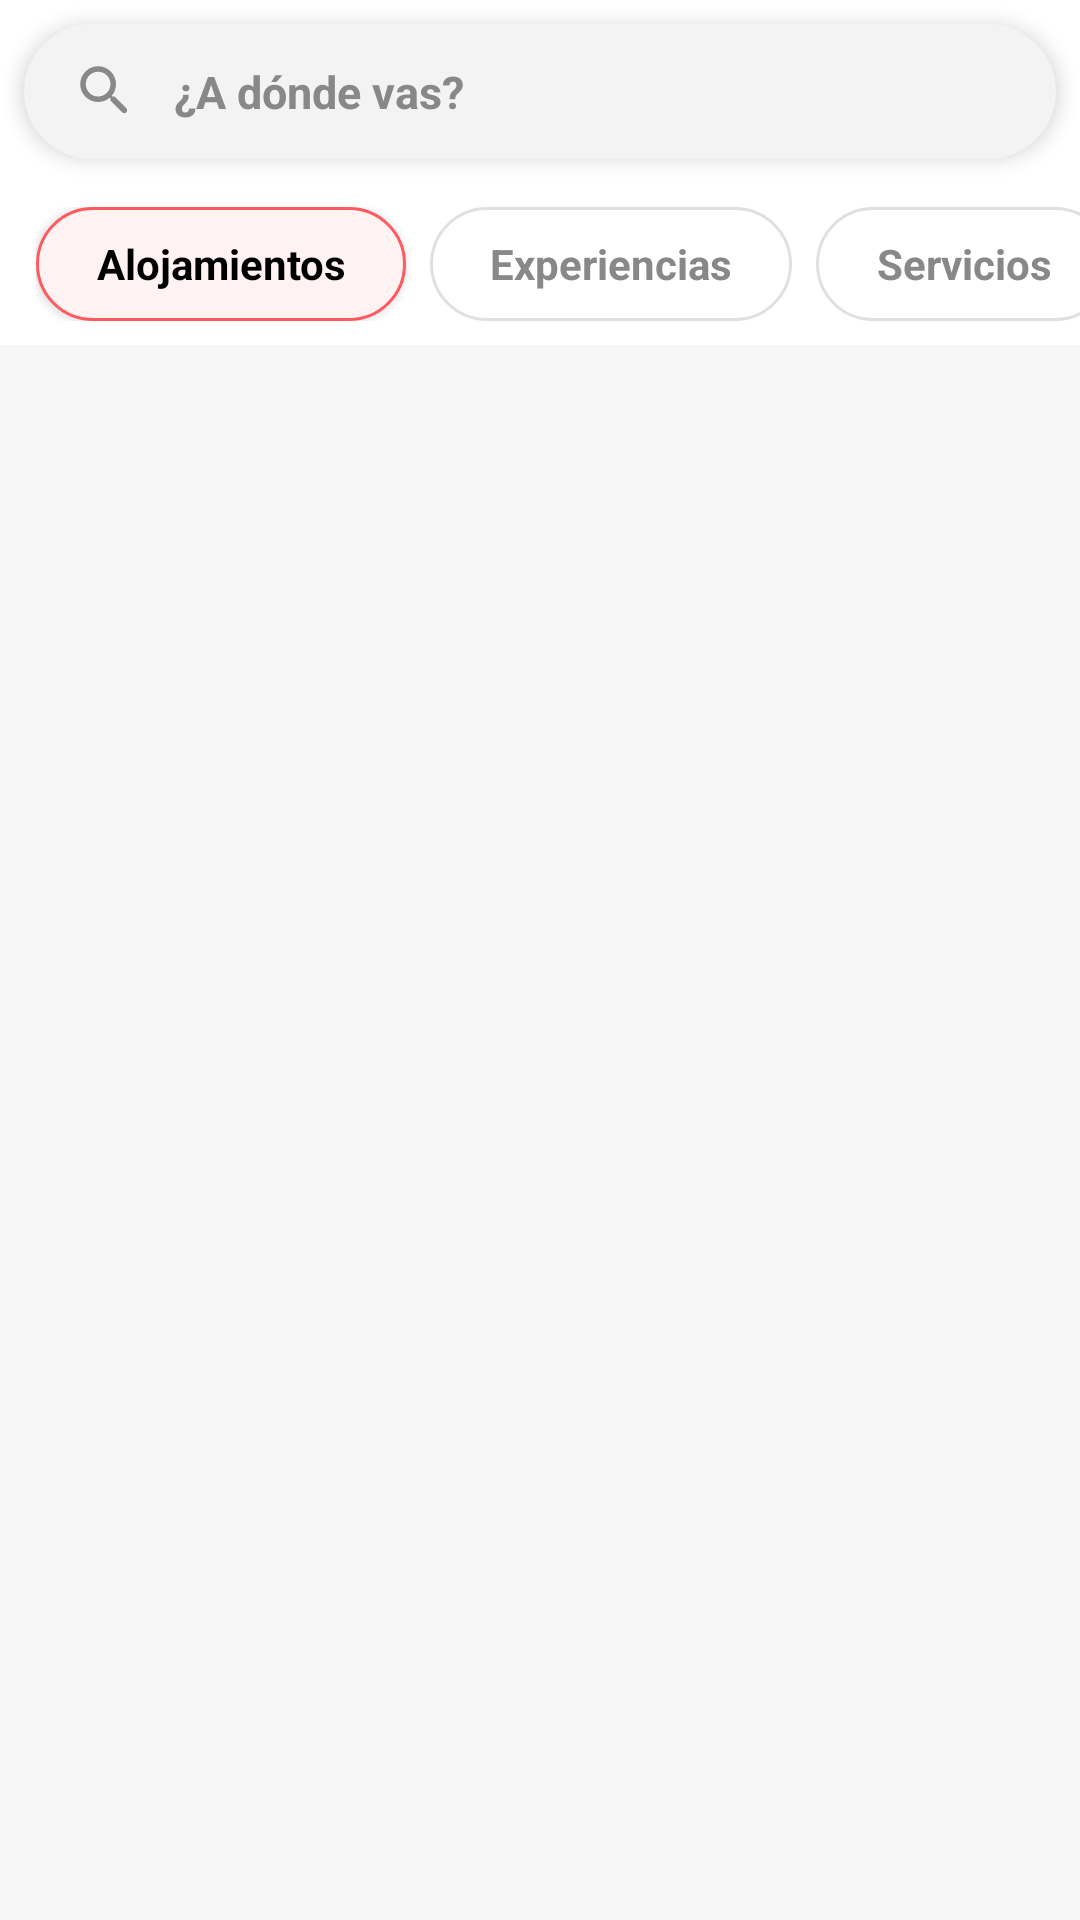

Point at icon controls on the screen. Image size 1080*1920, points as (x=x, y=y).
search: (x=103, y=89)
